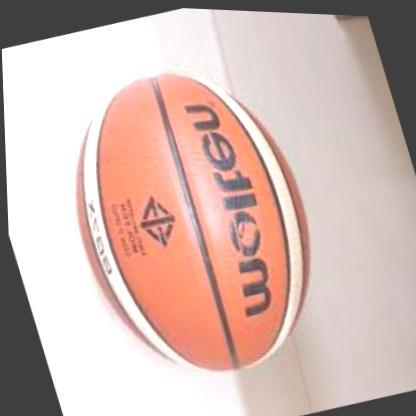basketball: (39, 42, 343, 401)
